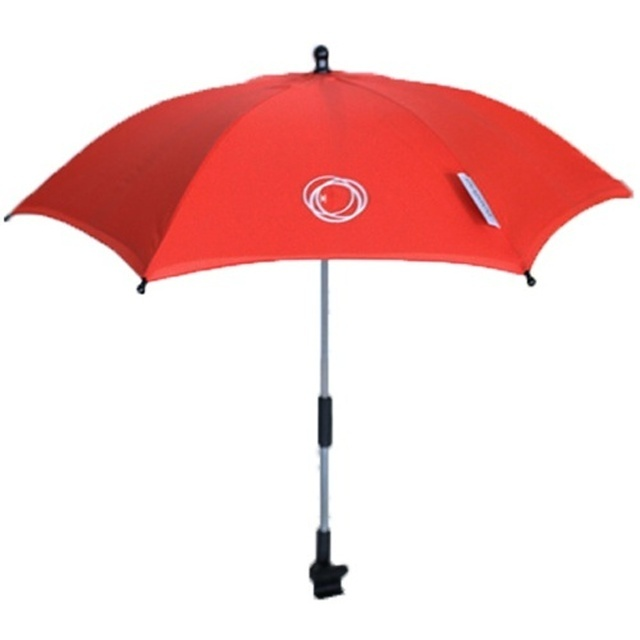umbrella: (2, 32, 640, 605)
